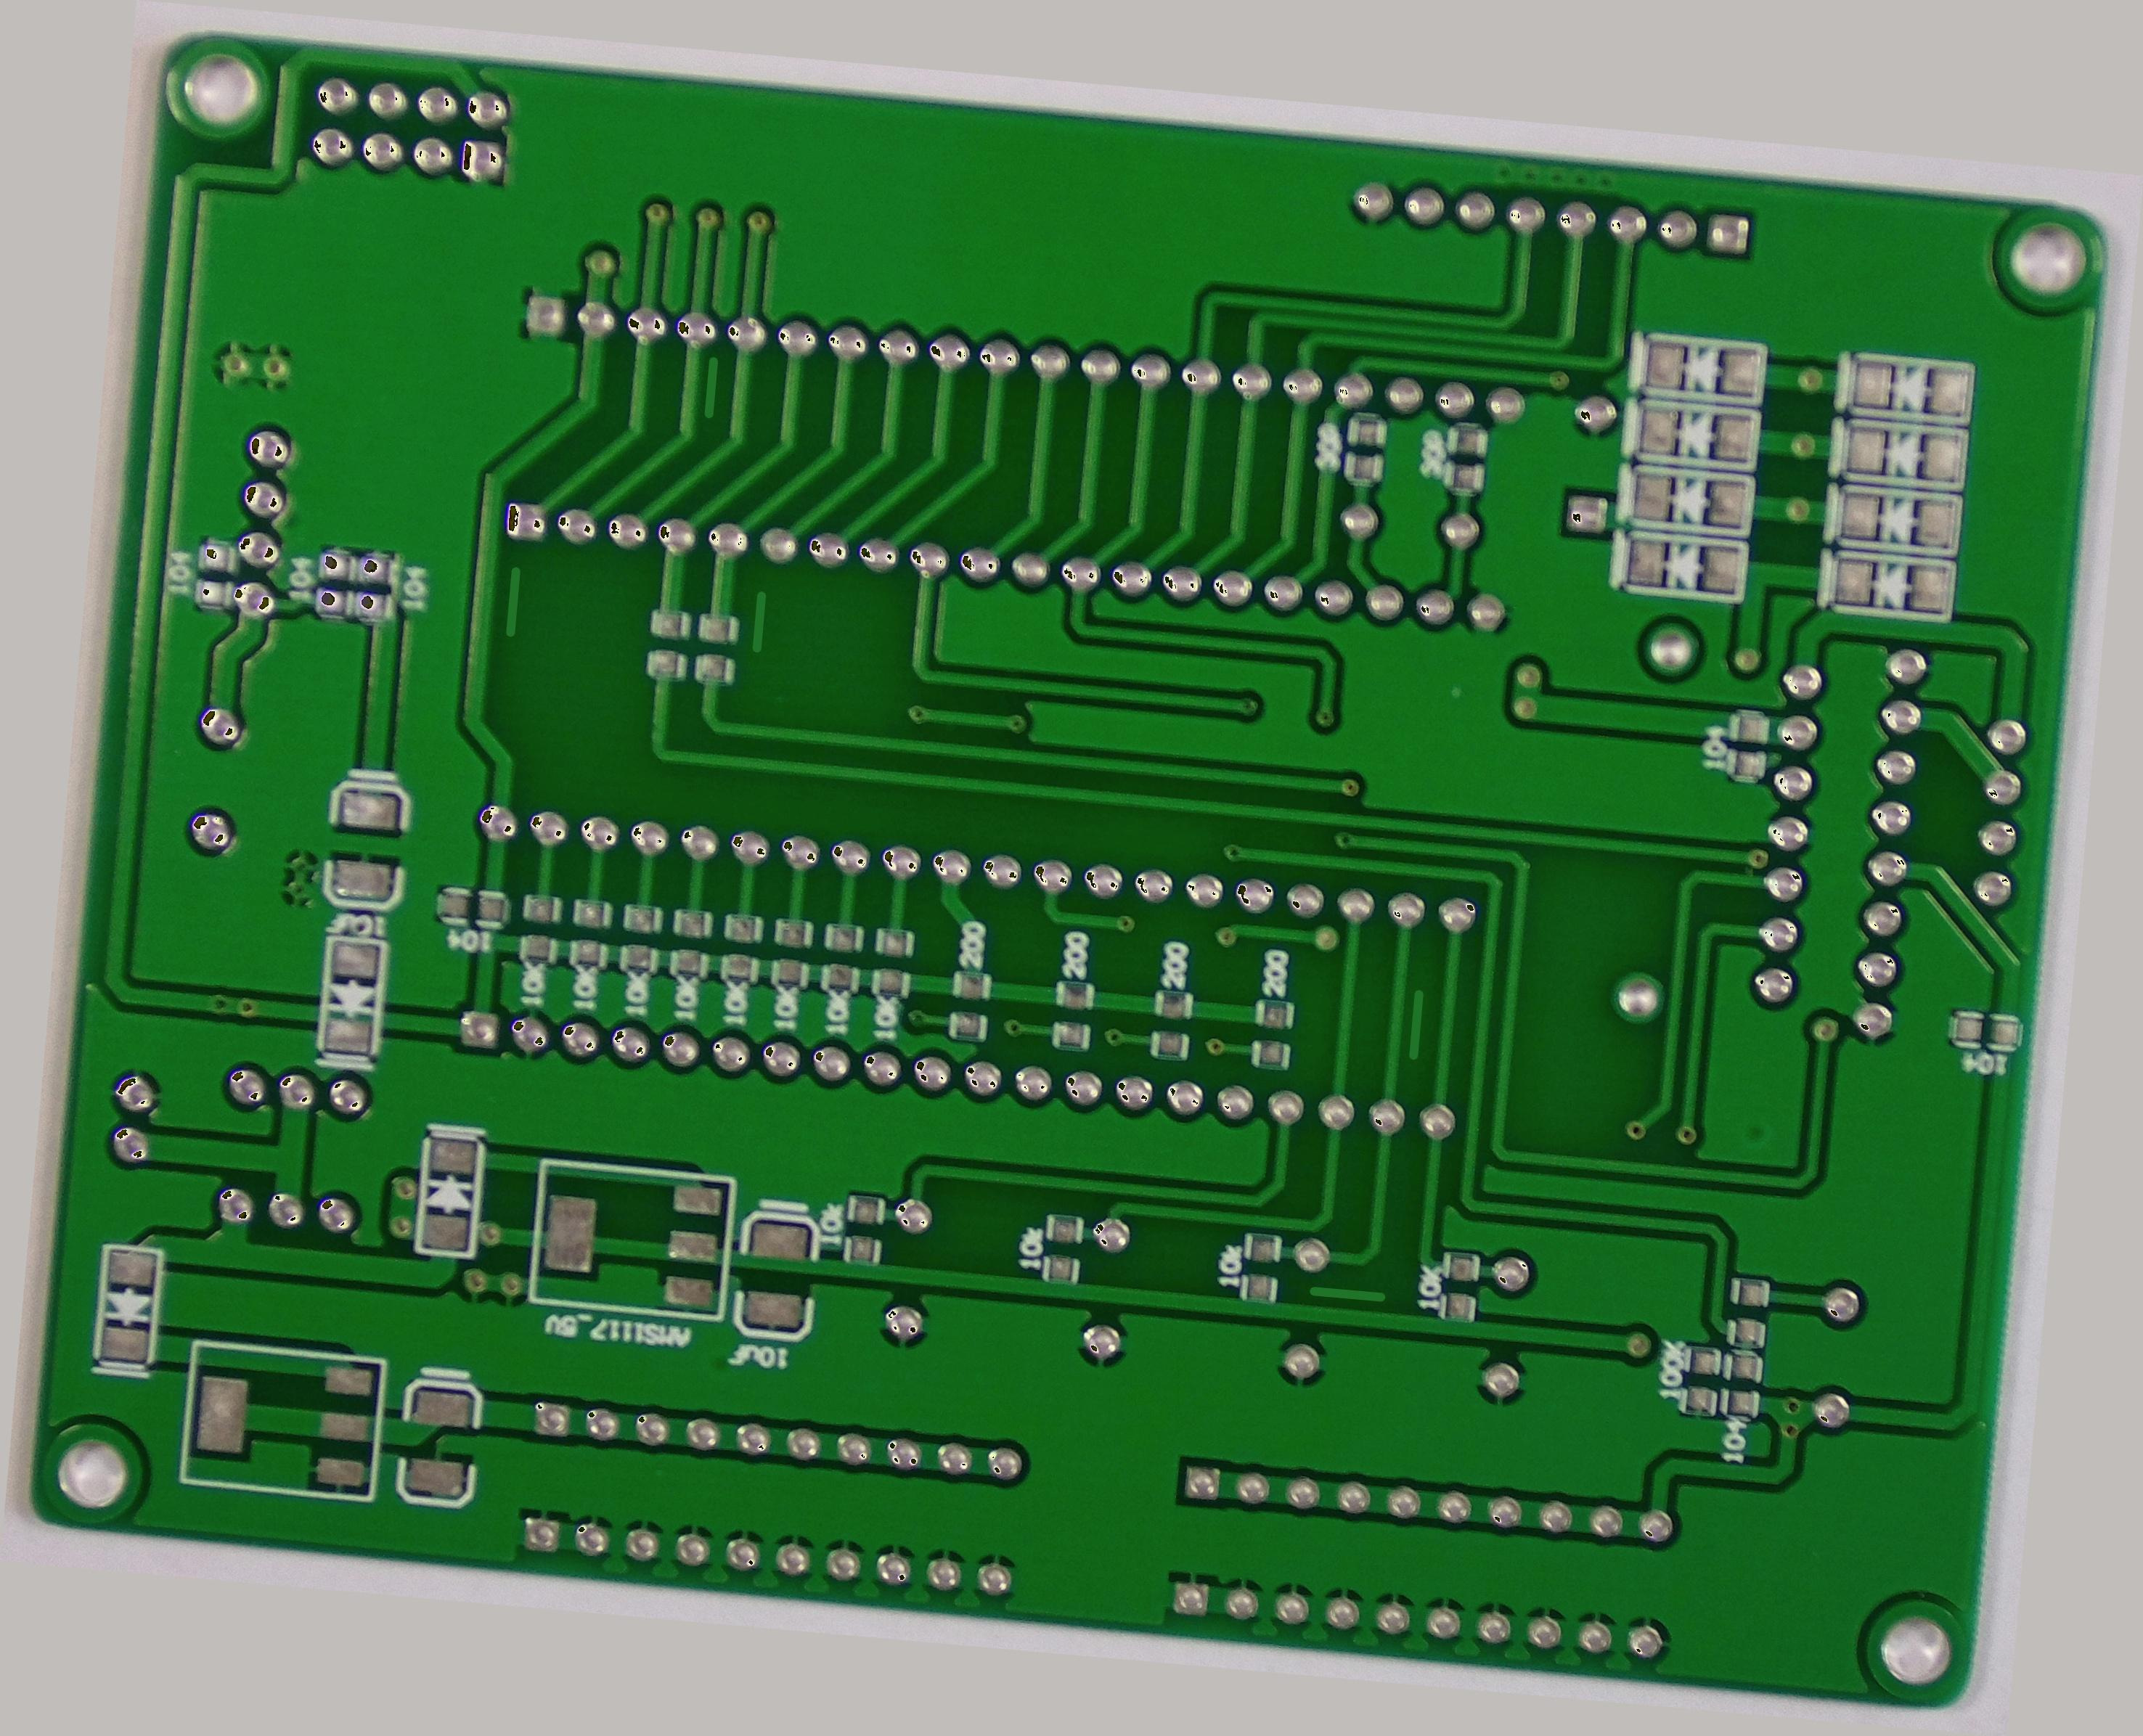spurious_copper: (1396, 974, 1438, 1073), (1300, 1274, 1394, 1318), (491, 556, 530, 647), (691, 349, 730, 432), (740, 581, 778, 663)
